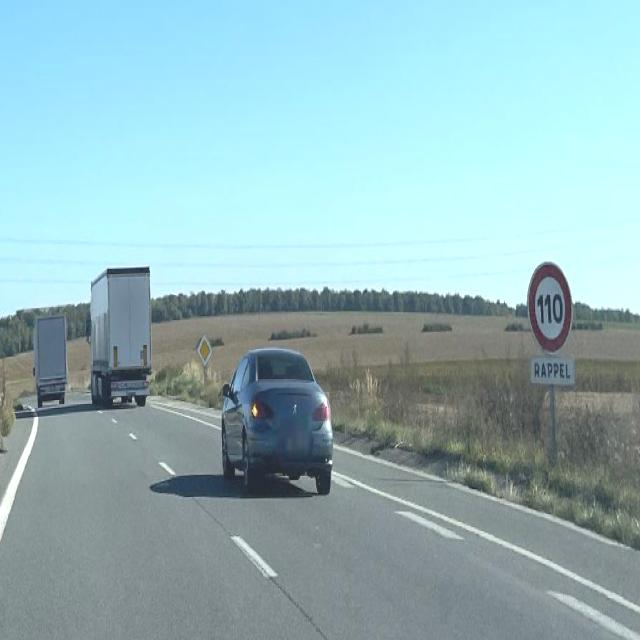speed_110: (527, 264, 573, 355)
